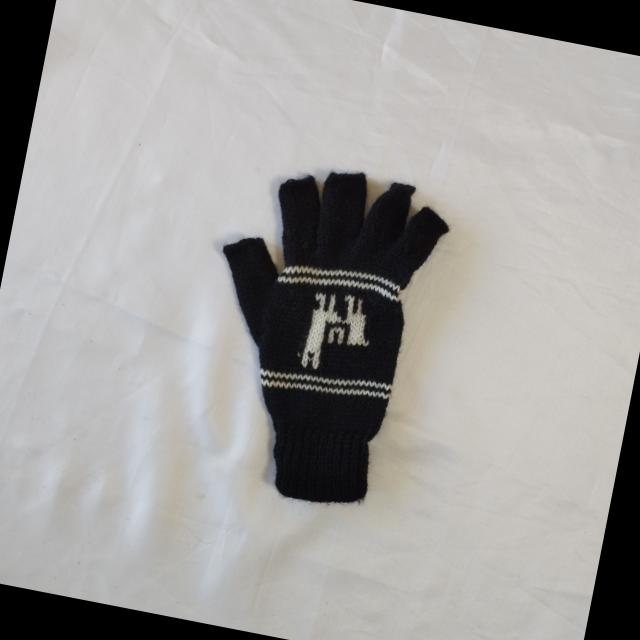Guante: (178, 148, 460, 520)
